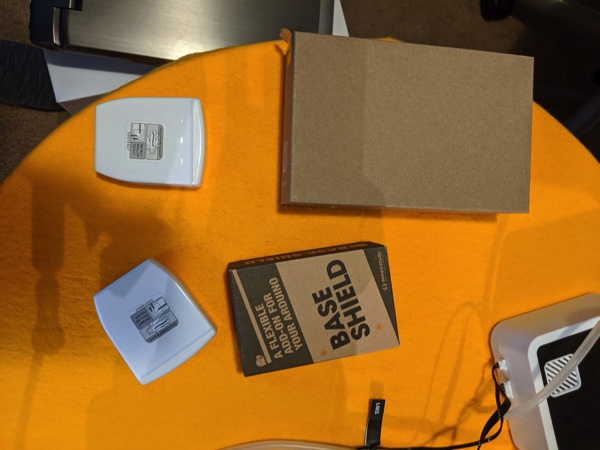cardboard: (266, 17, 552, 225), (214, 232, 411, 387)
plastic: (78, 247, 222, 399), (80, 84, 215, 201)
